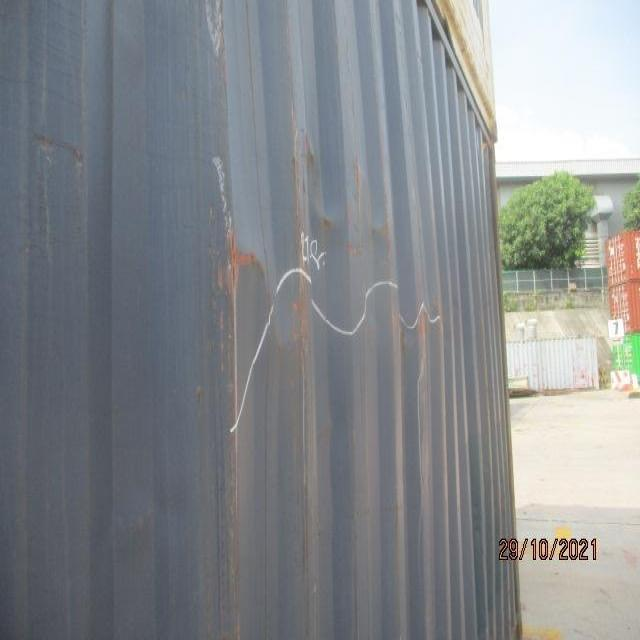Dent: (108, 174, 457, 410)
